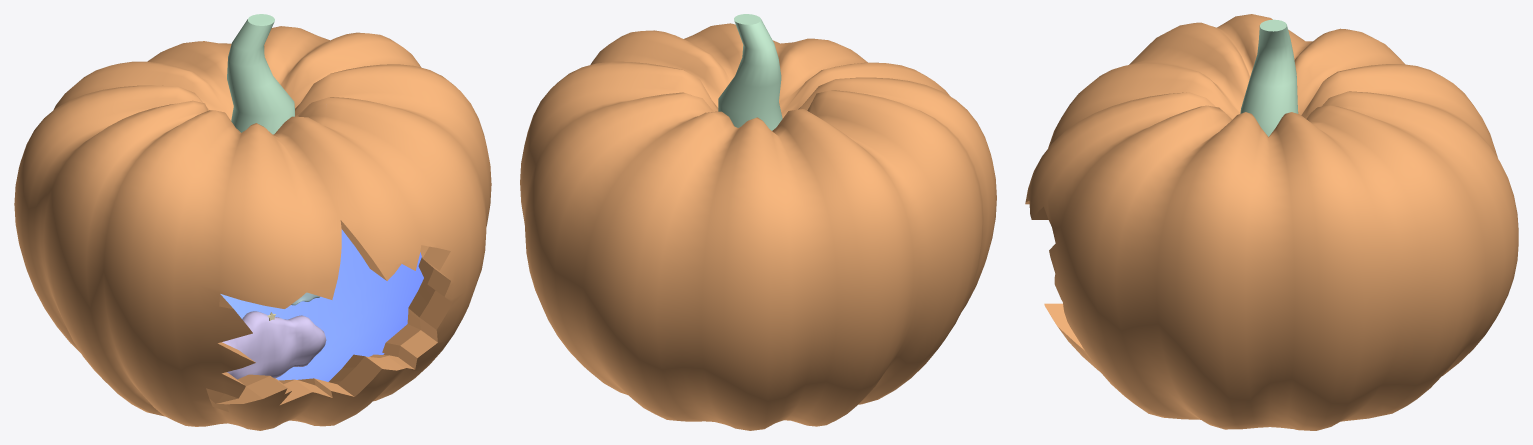
3 views of the same model, side by side, from view 1: azimuth 30°, elevation 25°; view 2: azimuth 150°, elevation 25°; view 3: azimuth 270°, elevation 25° (orthographic). The views are drawn at different scales.
Visible parts, largest first — view 1: Calabaza; view 2: Calabaza; view 3: Calabaza.
Part boxes in pixels (x1=…): Calabaza: x1=14, y1=14, x2=491, y2=430; Calabaza: x1=520, y1=14, x2=996, y2=430; Calabaza: x1=1025, y1=14, x2=1518, y2=430.
Bounding box in the file's own units: 0.4834 × 0.4187 × 0.497.
Materials: 1 (1 with a texture image).
